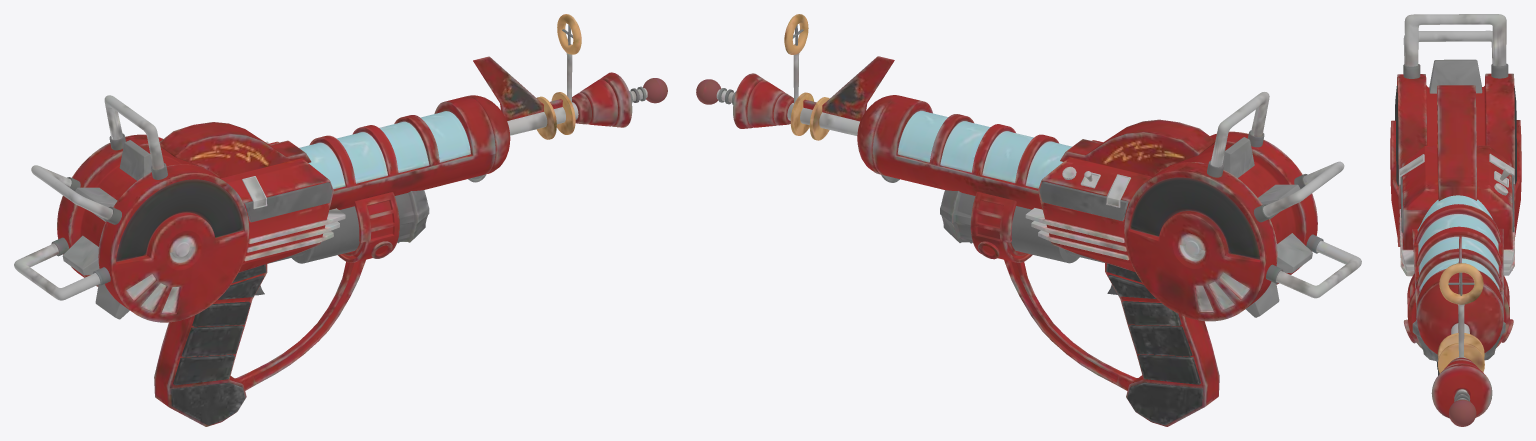
File: ray_gun.glb
3 renders of one model, left to right at view 1: azimuth 30°, elevation 25°; view 2: azimuth 150°, elevation 25°; view 3: azimuth 270°, elevation 25°, orthographic. The views are drawn at different scales.
Visible parts, largest first — view 1: Ray Gun_Ray Gun (Black / Silver)_0; view 2: Ray Gun_Ray Gun (Black / Silver)_0; view 3: Ray Gun_Ray Gun (Black / Silver)_0.
Boxes of the visible parts, x1,y1,x2,y2 form: Ray Gun_Ray Gun (Black / Silver)_0: [14, 14, 667, 426]; Ray Gun_Ray Gun (Black / Silver)_0: [696, 14, 1361, 426]; Ray Gun_Ray Gun (Black / Silver)_0: [1390, 14, 1521, 426].
Bounding box in the file's own units: 0.375 × 0.1856 × 0.0621.
1 material, 1 textured.
